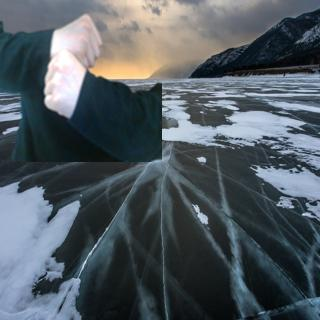CAREFUL: (35, 7, 106, 121)
